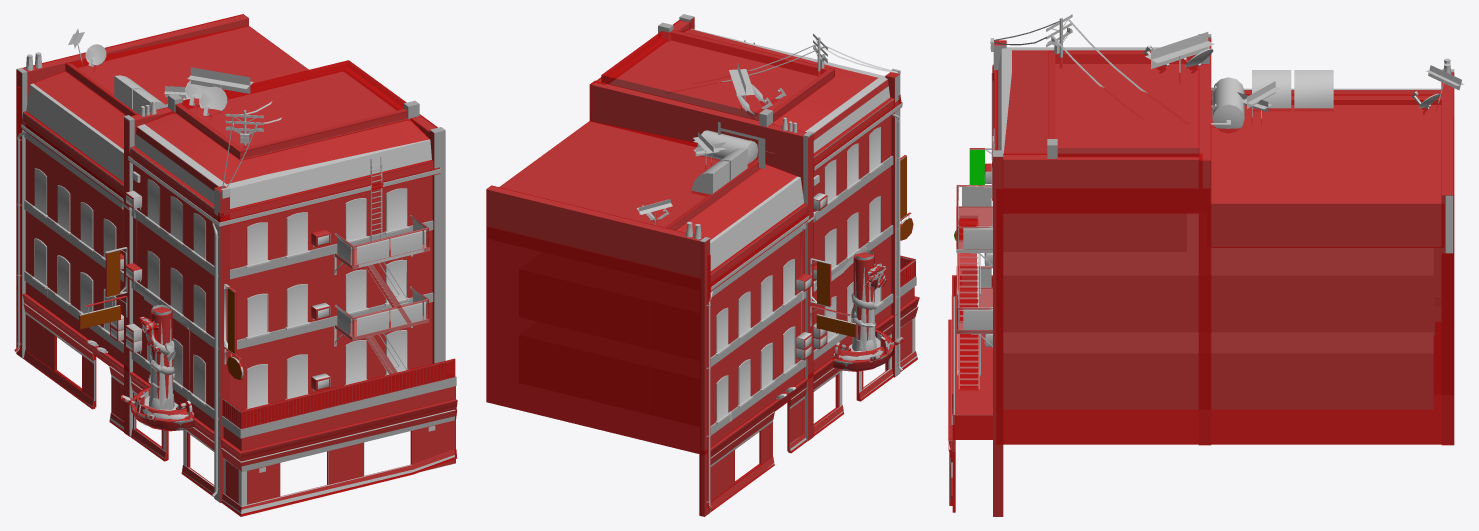
File: CT_building_010.dae
3 renders of one model, left to right at view 1: azimuth 30°, elevation 25°; view 2: azimuth 150°, elevation 25°; view 3: azimuth 270°, elevation 25°, orthographic. The views are drawn at different scales.
Visible parts, largest first — view 1: _010_building800, colmesh-2, _010_building400, _010_building100; view 2: colmesh-2, _010_building800, _010_building400, _010_building100; view 3: colmesh-2, _010_building800, _010_building400, _010_building100.
Part boxes in pixels (x1=…): _010_building800: x1=15, y1=15, x2=457, y2=514; colmesh-2: x1=14, y1=14, x2=457, y2=516; _010_building400: x1=17, y1=48, x2=456, y2=457; _010_building100: x1=24, y1=54, x2=432, y2=495; colmesh-2: x1=486, y1=17, x2=919, y2=516; _010_building800: x1=487, y1=14, x2=918, y2=516; _010_building400: x1=656, y1=40, x2=917, y2=508; _010_building100: x1=690, y1=113, x2=903, y2=444; colmesh-2: x1=948, y1=38, x2=1454, y2=516; _010_building800: x1=949, y1=14, x2=1464, y2=516; _010_building400: x1=950, y1=18, x2=1449, y2=448; _010_building100: x1=956, y1=63, x2=1445, y2=316.
Bounding box in the file's own units: 149 × 186 × 215.
